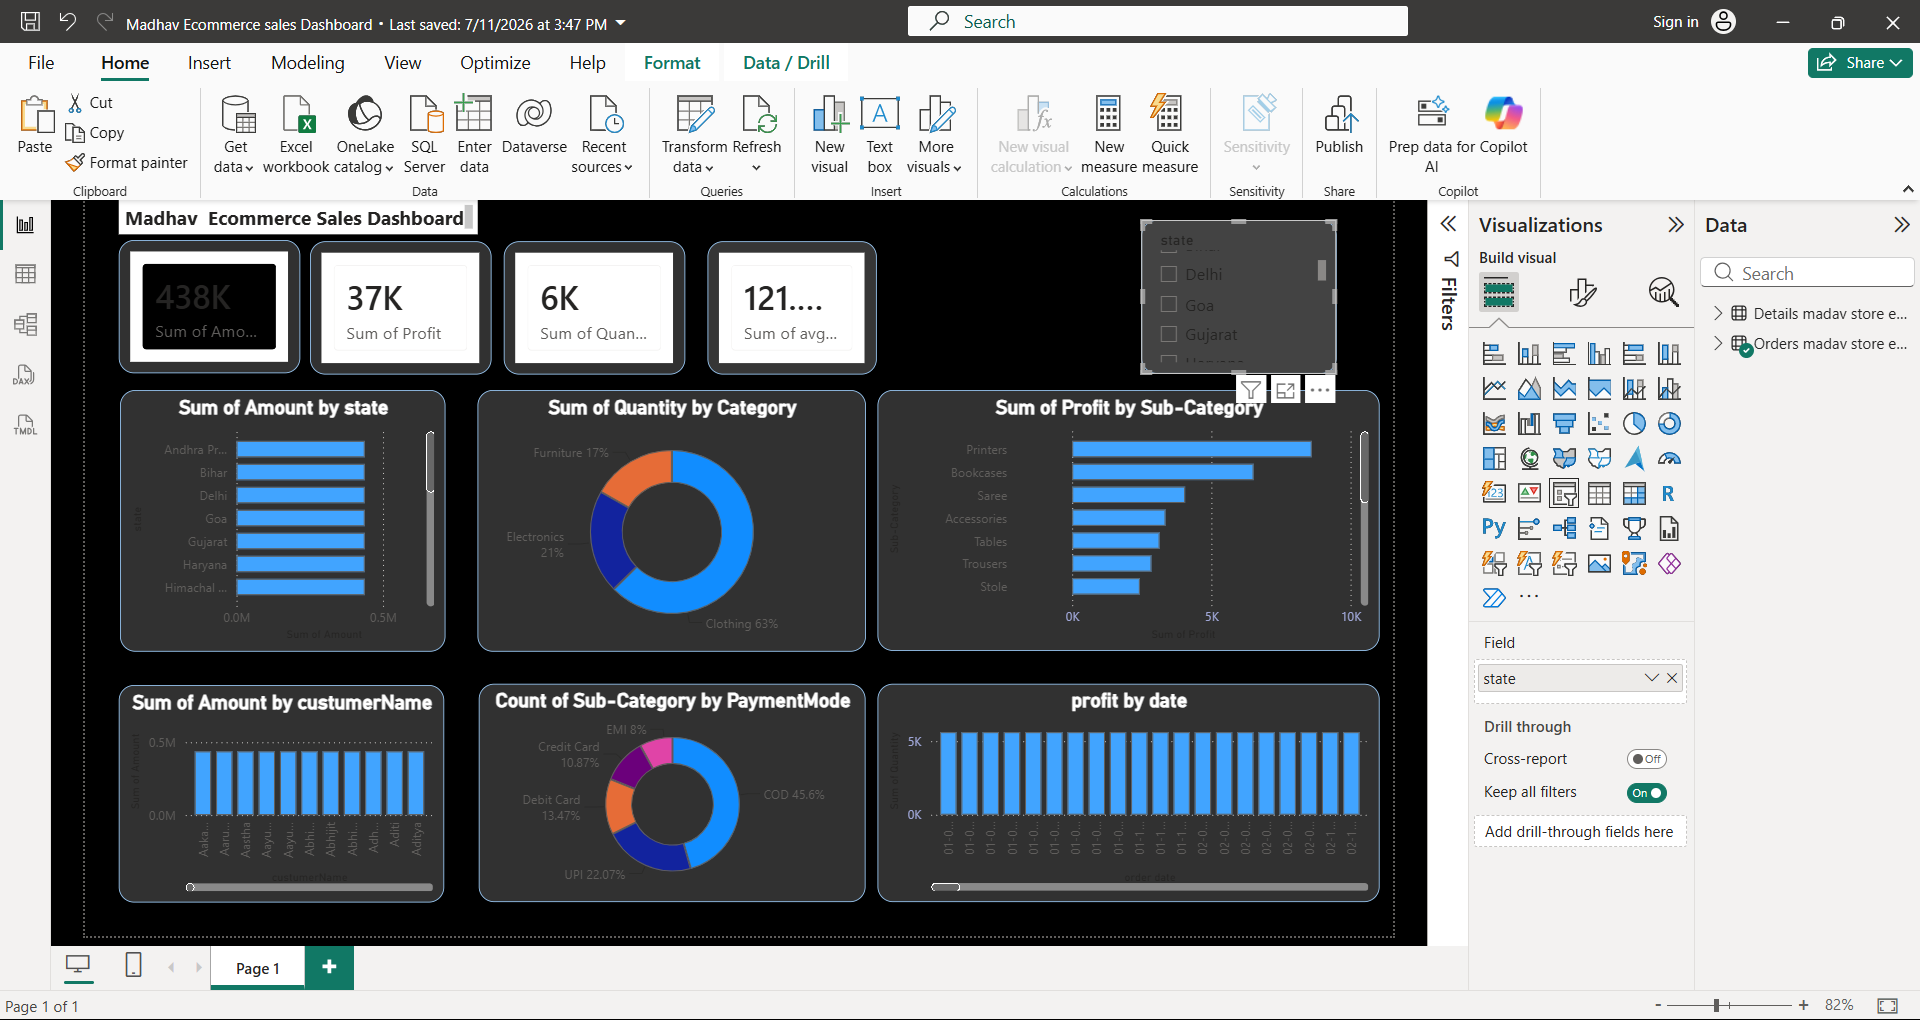

This screenshot's page, from the dashboard's own definition file:
{"tool":"powerbi","page":{"name":"Page 1","canvas":[1280,720],"ordinal":0},"visuals":[{"type":"textbox","box":[32.5,0,351.2,33.8],"z":0},{"type":"columnChart","title":"profit by date","fields":{"Y":["Sum(Details madav store ecom.Quantity)"],"Category":["Orders madav store ecom.order date"]},"box":[775,473.8,491.2,213.8],"z":1000},{"type":"barChart","fields":{"Category":["Details madav store ecom.Sub-Category"],"Y":["Sum(Details madav store ecom.Profit)"]},"box":[775,201.2,491.2,246.2],"z":2000},{"type":"donutChart","fields":{"Category":["Details madav store ecom.Category"],"Y":["Sum(Details madav store ecom.Quantity)"]},"box":[384.3,185.7,380,255.7],"z":3000},{"type":"donutChart","fields":{"Y":["CountNonNull(Details madav store ecom.Sub-Category)"],"Category":["Details madav store ecom.PaymentMode"]},"box":[365,473.8,378.8,213.8],"z":4000},{"type":"cardVisual","fields":{"Data":["Sum(Details madav store ecom.Amount)"]},"box":[32.5,38.8,177.5,130],"z":5000},{"type":"cardVisual","fields":{"Data":["Sum(Details madav store ecom.Quantity)"]},"box":[387.5,40,177.5,130],"z":6000},{"type":"cardVisual","fields":{"Data":["Sum(Details madav store ecom.Profit)"]},"box":[210,40,177.5,130],"z":7000},{"type":"cardVisual","fields":{"Data":["Sum(Details madav store ecom.avg order value)"]},"box":[564.3,40,165.7,130],"z":8000},{"type":"columnChart","fields":{"Category":["Orders madav store ecom.custumerName"],"Y":["Sum(Details madav store ecom.Amount)"]},"box":[32.9,474.3,318.6,212.9],"z":9000},{"type":"slicer","fields":{"Values":["Orders madav store ecom.state "]},"box":[1032.9,20,191.4,150],"z":11000},{"type":"clusteredBarChart","fields":{"Category":["Orders madav store ecom.state "],"Y":["Sum(Details madav store ecom.Amount)"]},"box":[32.5,185,318.8,256.2],"z":12000}]}

Visuals, with their boxes on the page's 1280x720 design canvas (x1, y1, x2, y2). These are canvas units, not pixel positions in the 1920x1020 screenshot, which may show the page scaled, cropped or inside an application window:
textbox: bbox=(32, 0, 384, 34)
"profit by date" columnChart: bbox=(775, 474, 1266, 688)
barChart - Details madav store ecom.Sub-Category x Sum(Details madav store ecom.Profit): bbox=(775, 201, 1266, 447)
donutChart - Details madav store ecom.Category x Sum(Details madav store ecom.Quantity): bbox=(384, 186, 764, 441)
donutChart - CountNonNull(Details madav store ecom.Sub-Category) x Details madav store ecom.PaymentMode: bbox=(365, 474, 744, 688)
cardVisual - Sum(Details madav store ecom.Amount): bbox=(32, 39, 210, 169)
cardVisual - Sum(Details madav store ecom.Quantity): bbox=(388, 40, 565, 170)
cardVisual - Sum(Details madav store ecom.Profit): bbox=(210, 40, 388, 170)
cardVisual - Sum(Details madav store ecom.avg order value): bbox=(564, 40, 730, 170)
columnChart - Orders madav store ecom.custumerName x Sum(Details madav store ecom.Amount): bbox=(33, 474, 352, 687)
slicer - Orders madav store ecom.state : bbox=(1033, 20, 1224, 170)
clusteredBarChart - Orders madav store ecom.state  x Sum(Details madav store ecom.Amount): bbox=(32, 185, 351, 441)
